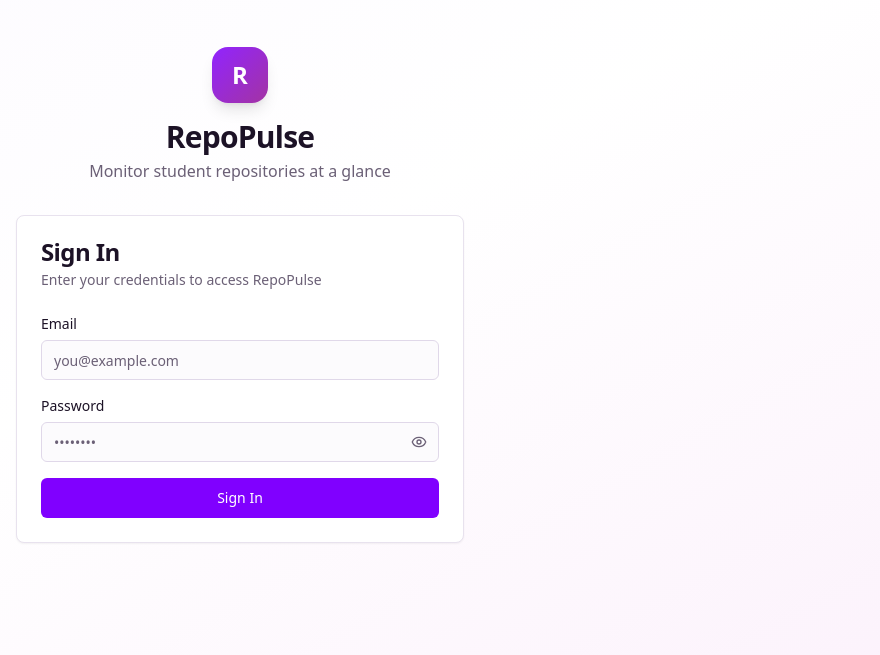
Test: LoginPage › shows error message when email login fails
In the field labelled "Email": (240, 360) x1=41 y1=340 x2=439 y2=380, type "bad@example.com"
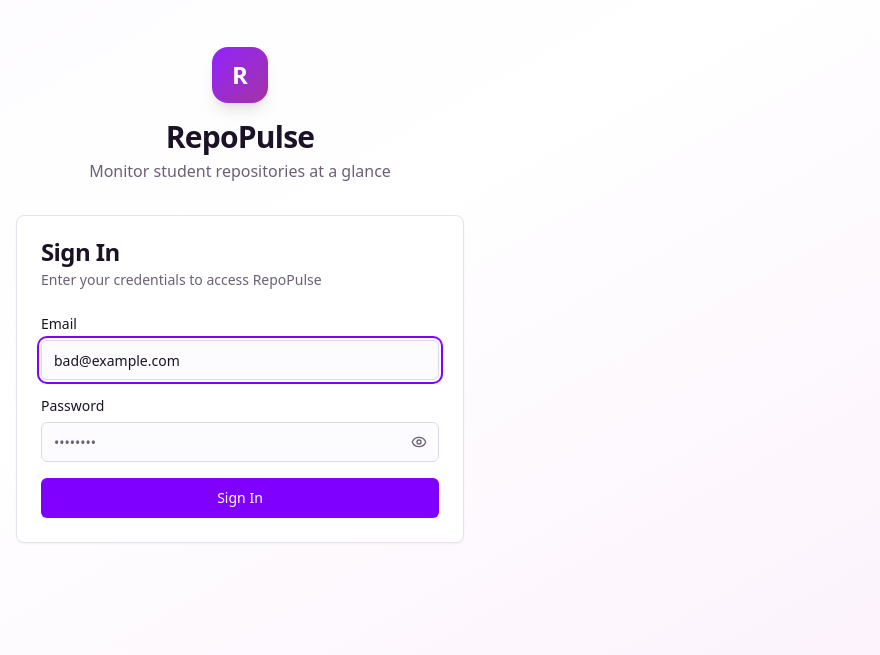
In the password field labelled "Password": (240, 442) x1=41 y1=422 x2=439 y2=462, type "wrongpass"
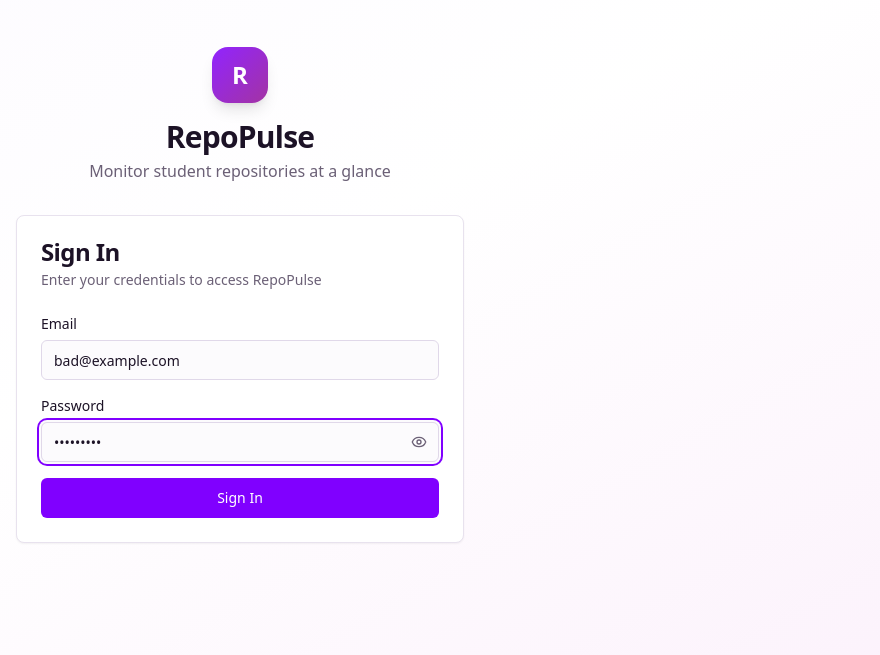
Click the button "Sign In": (240, 498) x1=41 y1=478 x2=439 y2=518
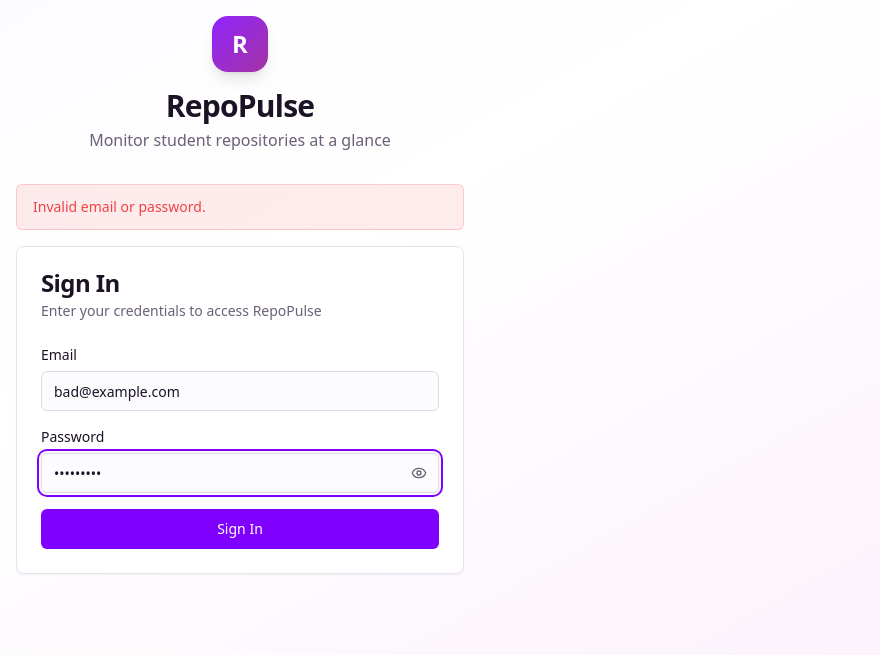
Now the text "Invalid email or password." is shown, box x1=16 y1=184 x2=464 y2=230
